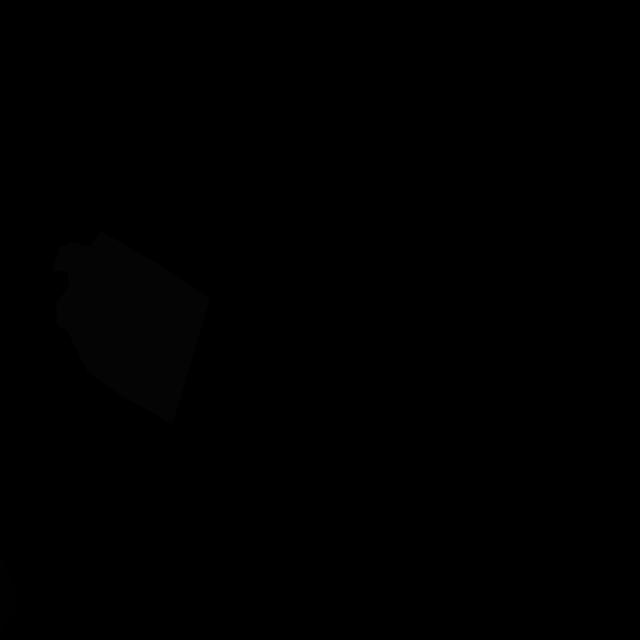rigid_plastic: (0, 553, 21, 636)
soft_plastic: (52, 231, 210, 424)
